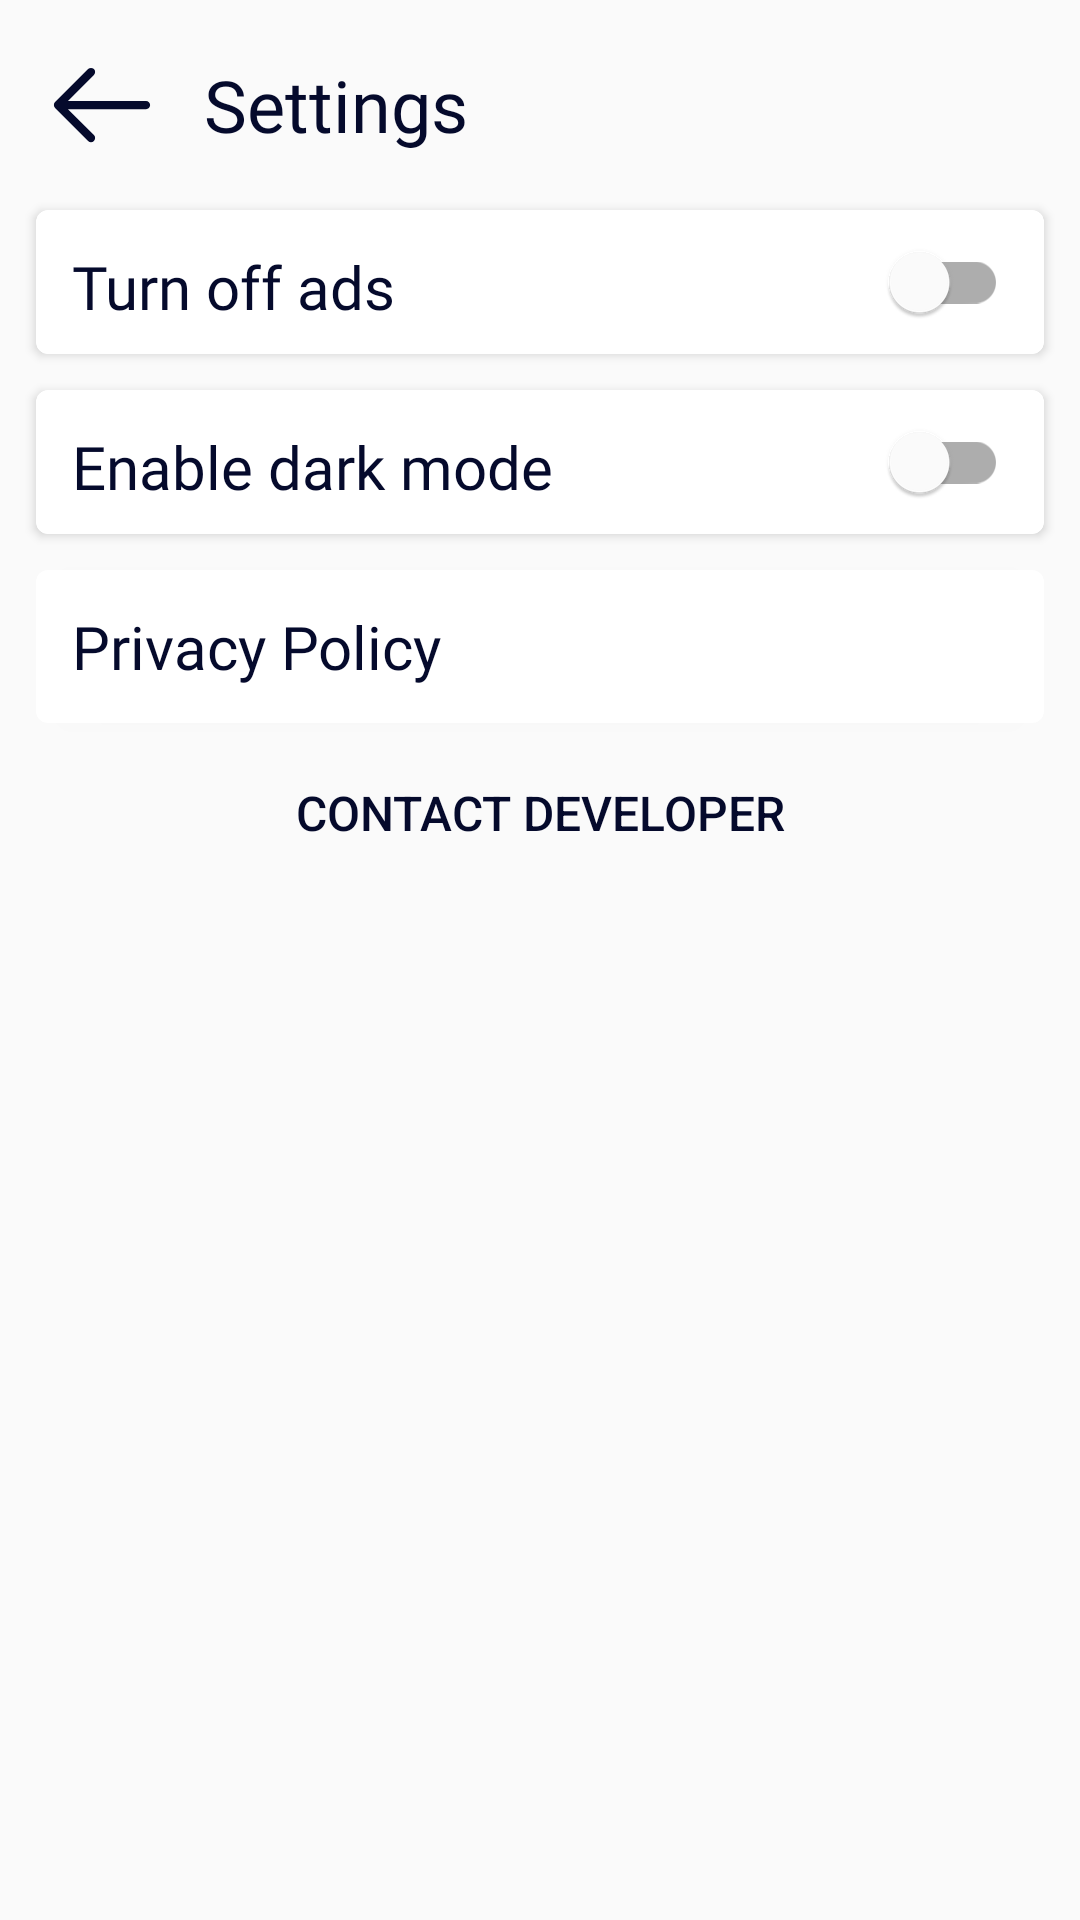

Icon bounding boxes for this 1080 x 1920 phone screenshot, format (x1, y1, x2, y2):
Back: (54, 68, 150, 143)
